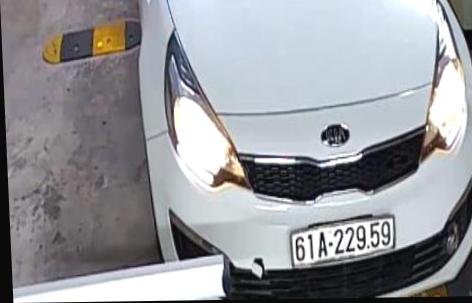License_Plate: (286, 211, 398, 268)
